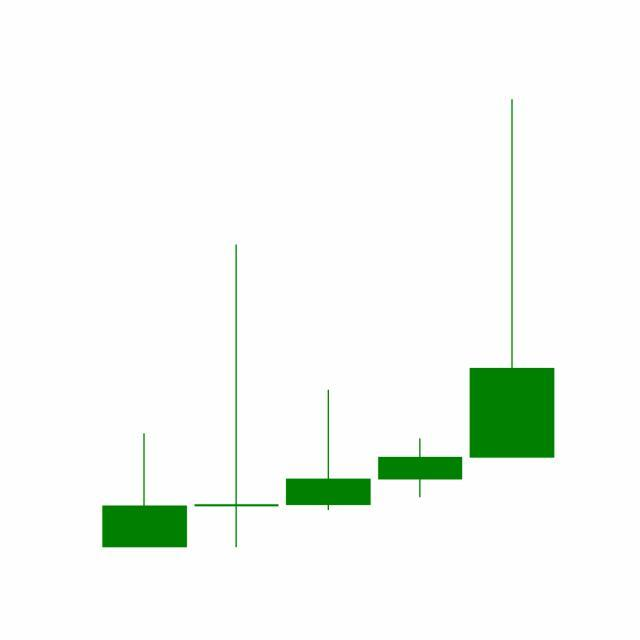Marubozu: (374, 438, 468, 500)
